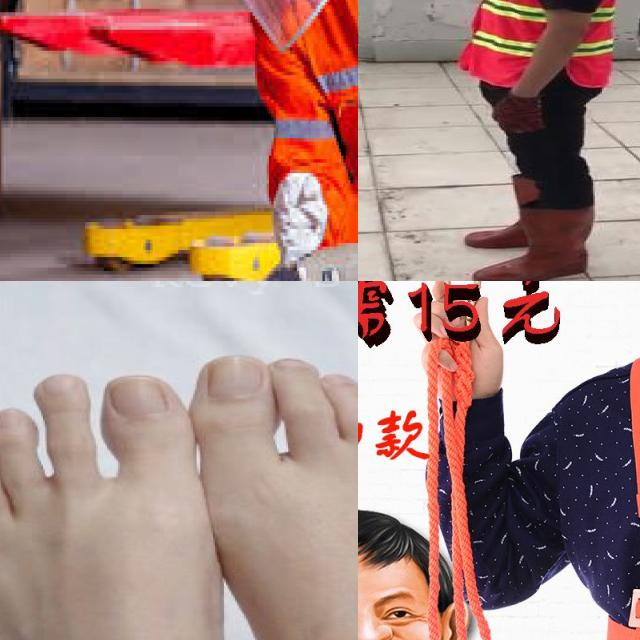Barefoots: (0, 356, 358, 640)
Harness: (570, 345, 640, 640), (358, 281, 393, 346)
boots: (459, 168, 576, 255), (472, 205, 594, 281)
hand_glove: (269, 172, 327, 271), (492, 96, 543, 133)
person: (427, 0, 626, 281), (183, 0, 358, 281)
vest: (461, 0, 619, 88)
